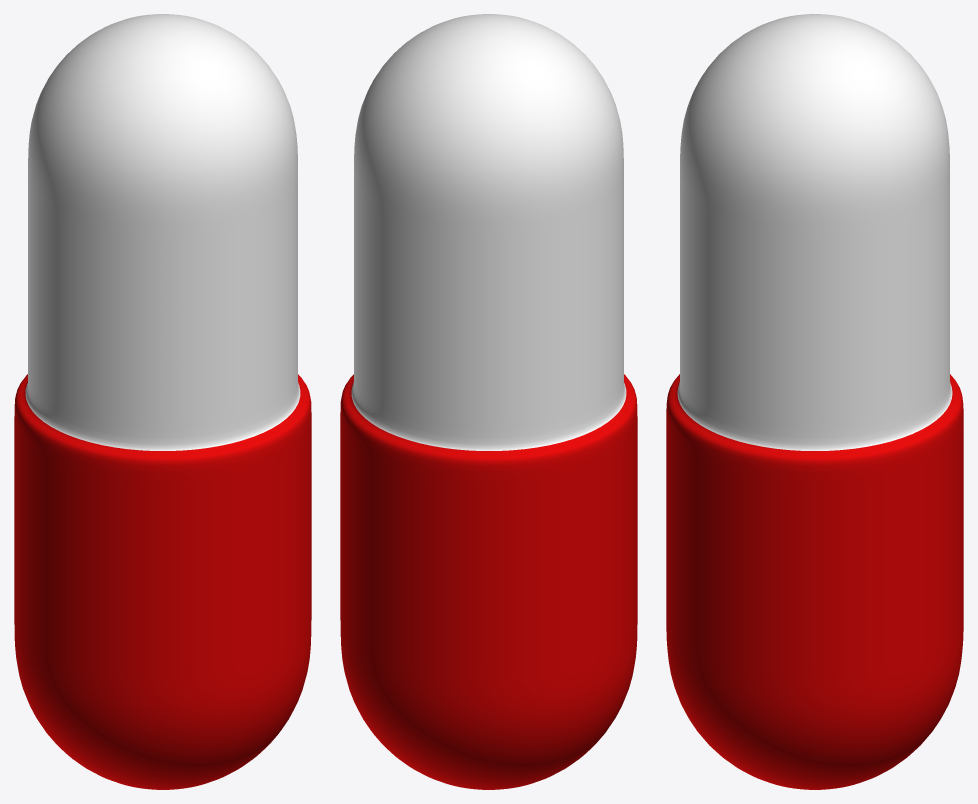
File: RedCapsule 1.fbx
The picture shows the model from 3 angles, left to right: view 1: azimuth 30°, elevation 25°; view 2: azimuth 150°, elevation 25°; view 3: azimuth 270°, elevation 25°; orthographic projection.
Parts seen in each view (by area): view 1: 실린더.001; view 2: 실린더.001; view 3: 실린더.001.
Boxes of the visible parts, x1=… form: 실린더.001: x1=14, y1=14, x2=311, y2=789; 실린더.001: x1=340, y1=14, x2=637, y2=789; 실린더.001: x1=666, y1=14, x2=963, y2=789.
Size of the model in its own units: 219 by 609 by 219.
